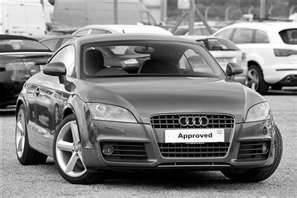car: (13, 29, 285, 188)
